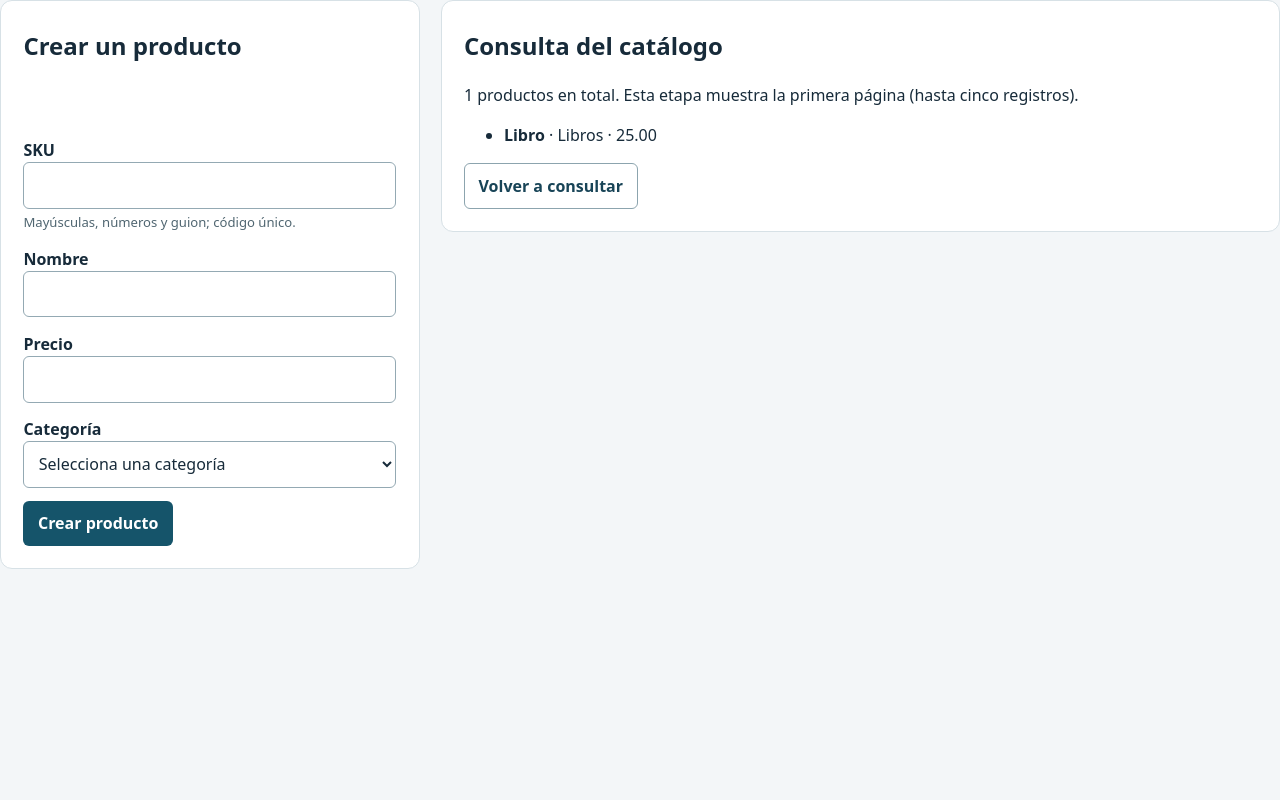
Test case: etapa 2 mantiene el formulario si el SKU ya existe
In the field labelled "SKU": (210, 185) [23,162,396,209], type "ETAPA-01"
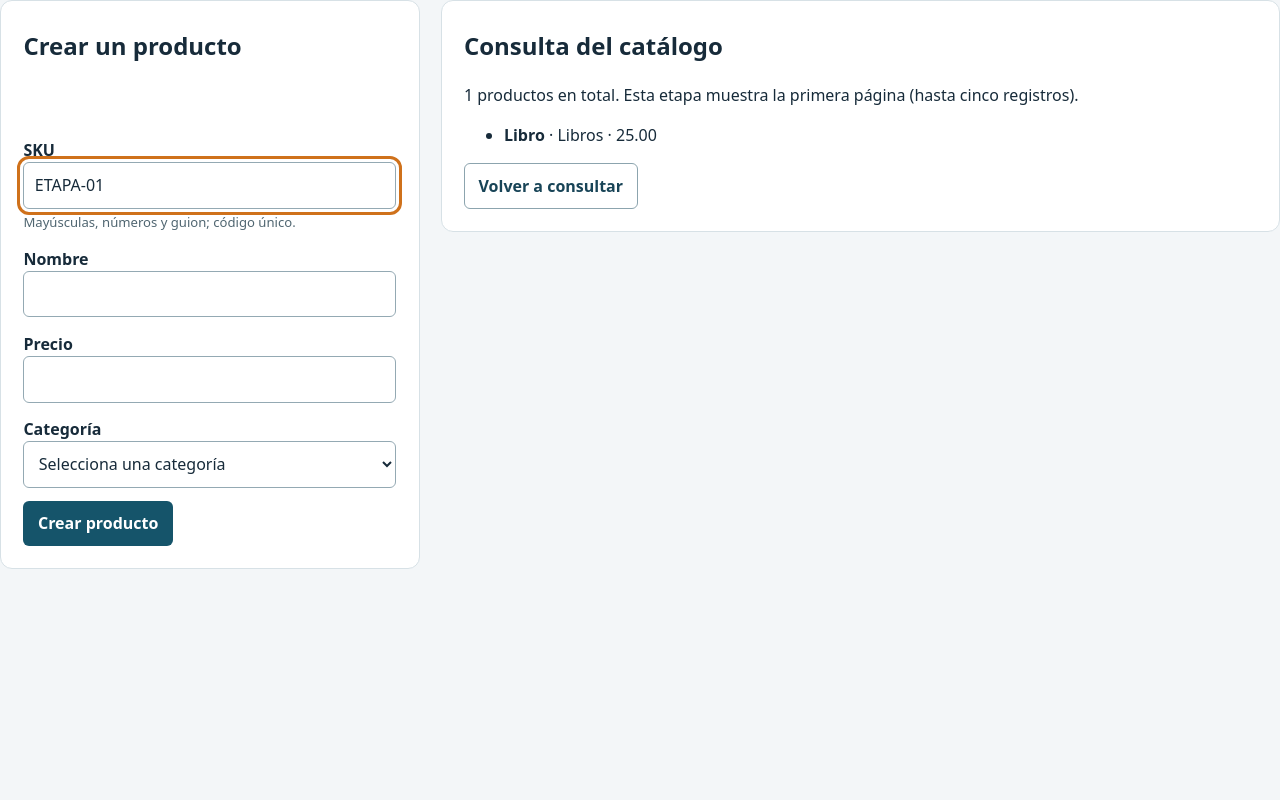
In the field labelled "Nombre": (210, 294) [23,271,396,317], type "Libro nuevo"
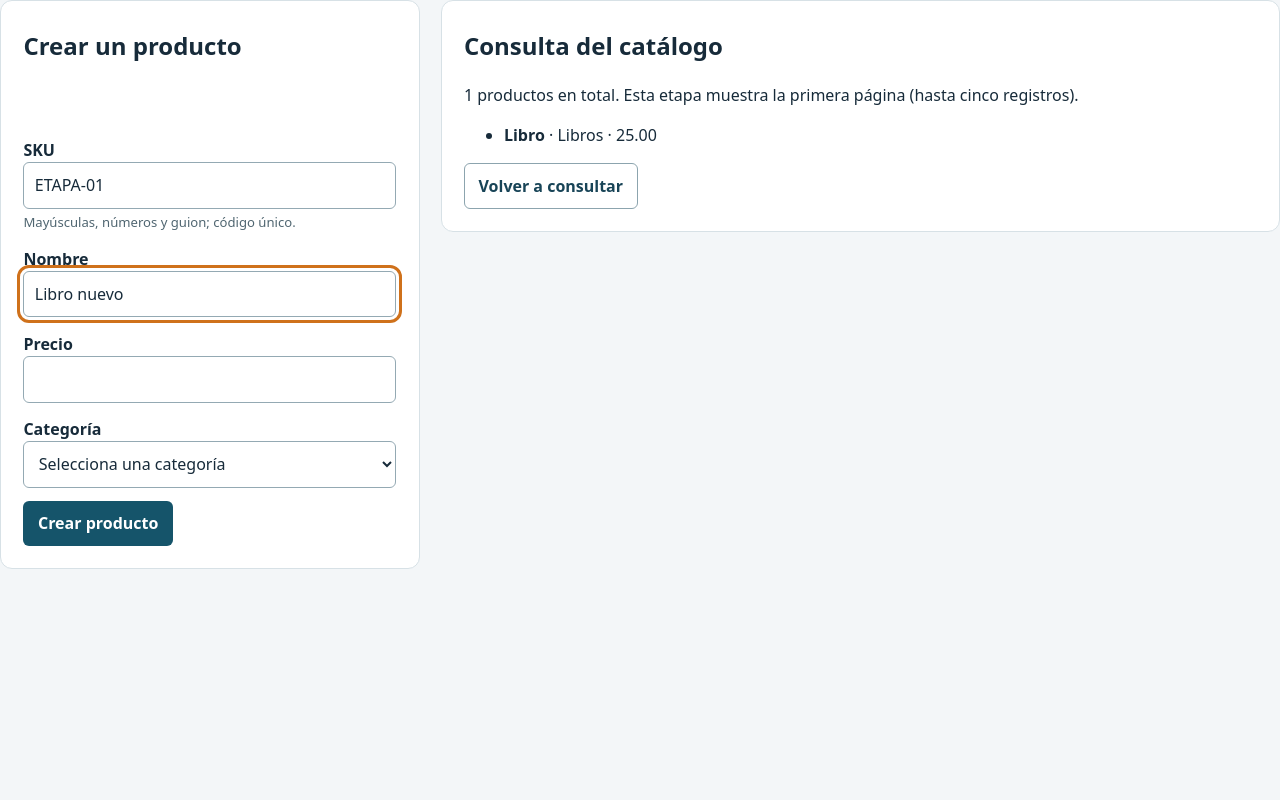
In the number field labelled "Precio": (210, 379) [23,356,396,403], type "30.50"
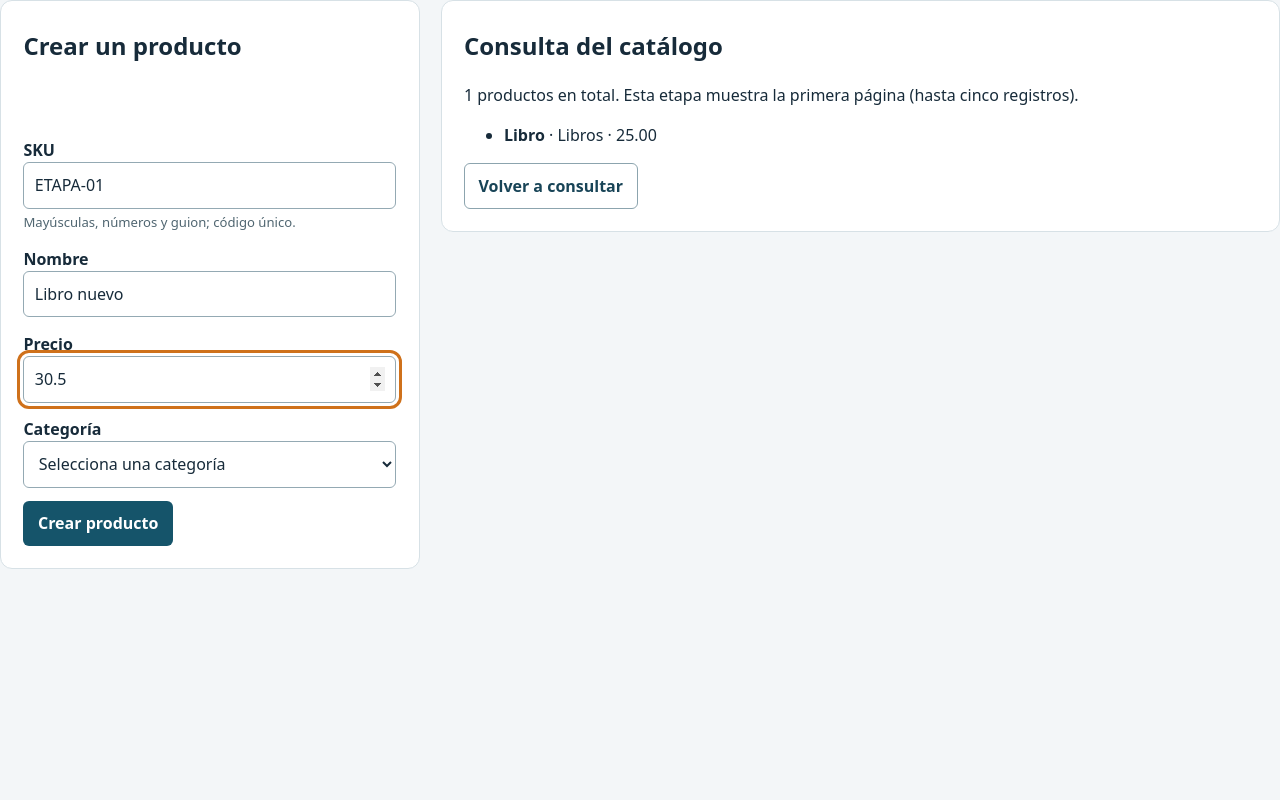
Select "Libros" in the dropdown labelled "Categoría": (210, 464) [23,441,396,488]
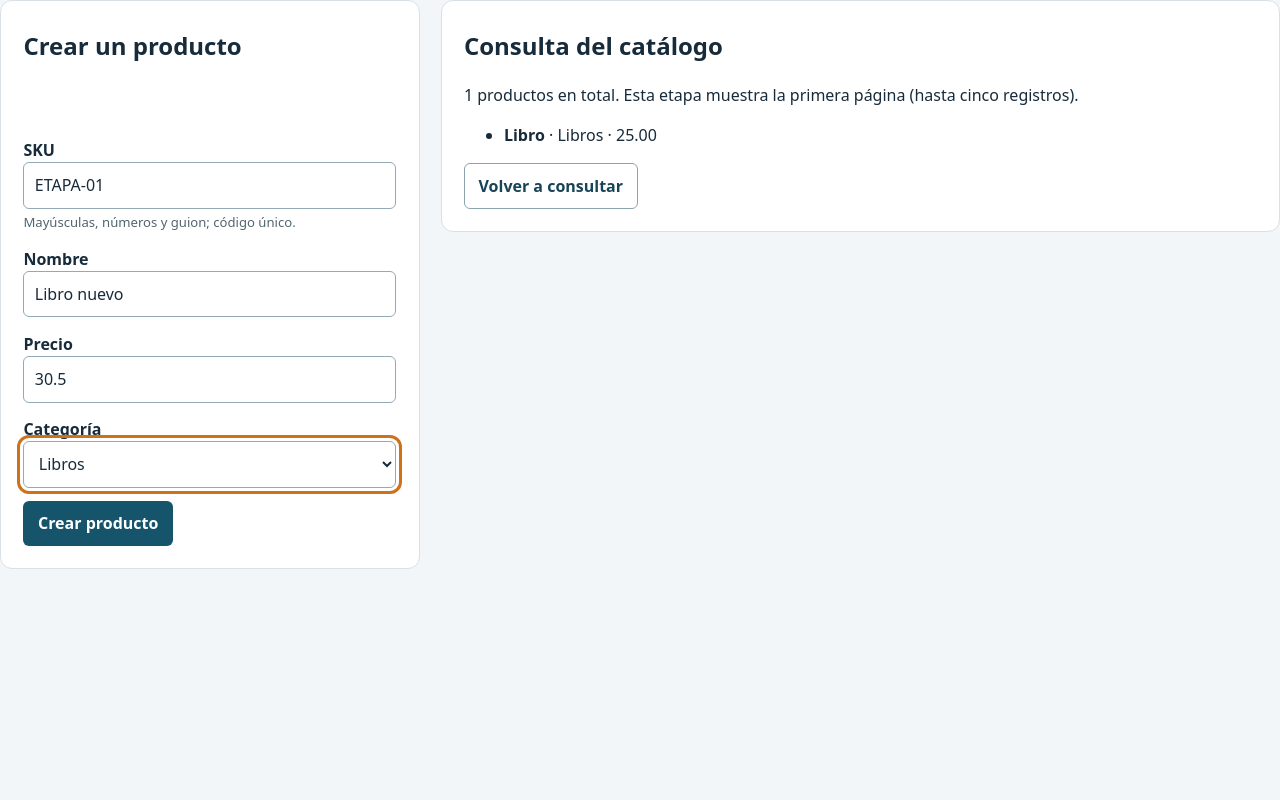
Click the button "Crear producto": (98, 523) [23,500,173,546]
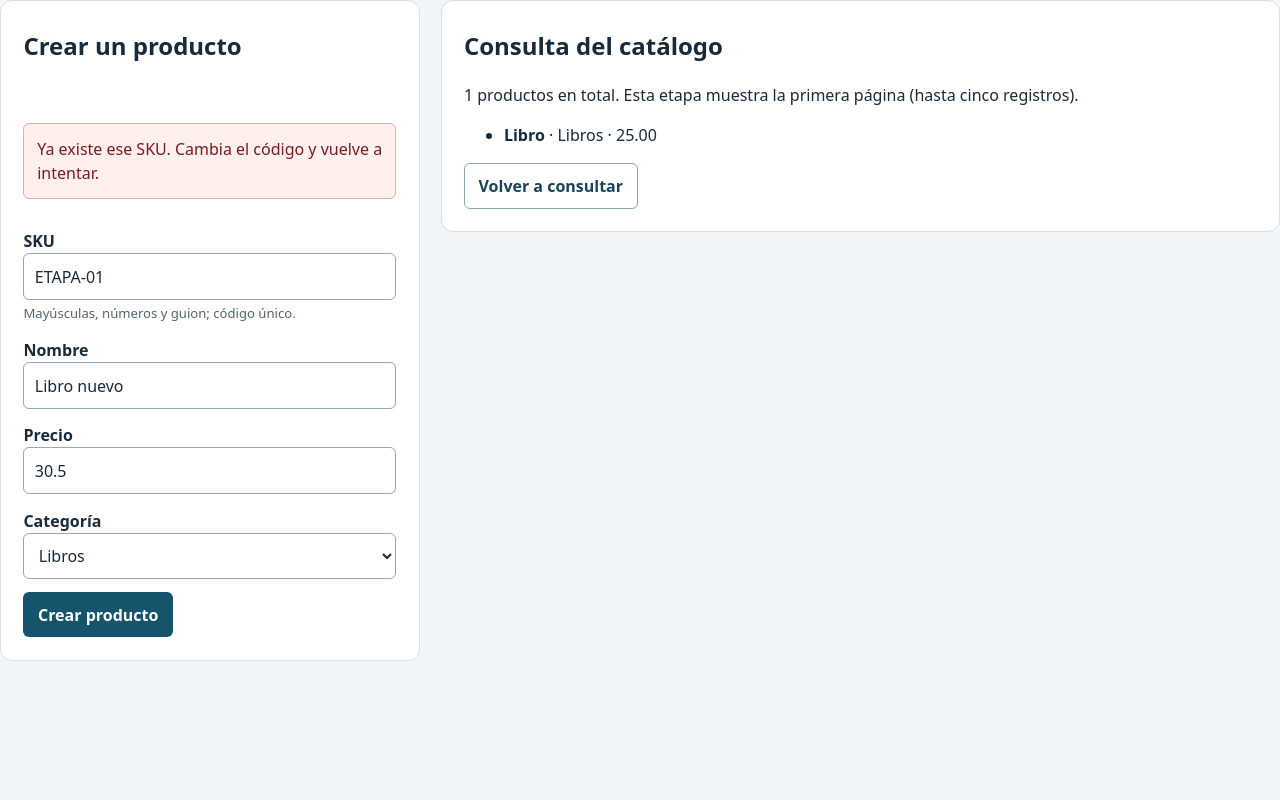
Now the text "Ya existe ese SKU. Cambia el código y vuelve a intentar." is shown, box [23,123,396,199]
